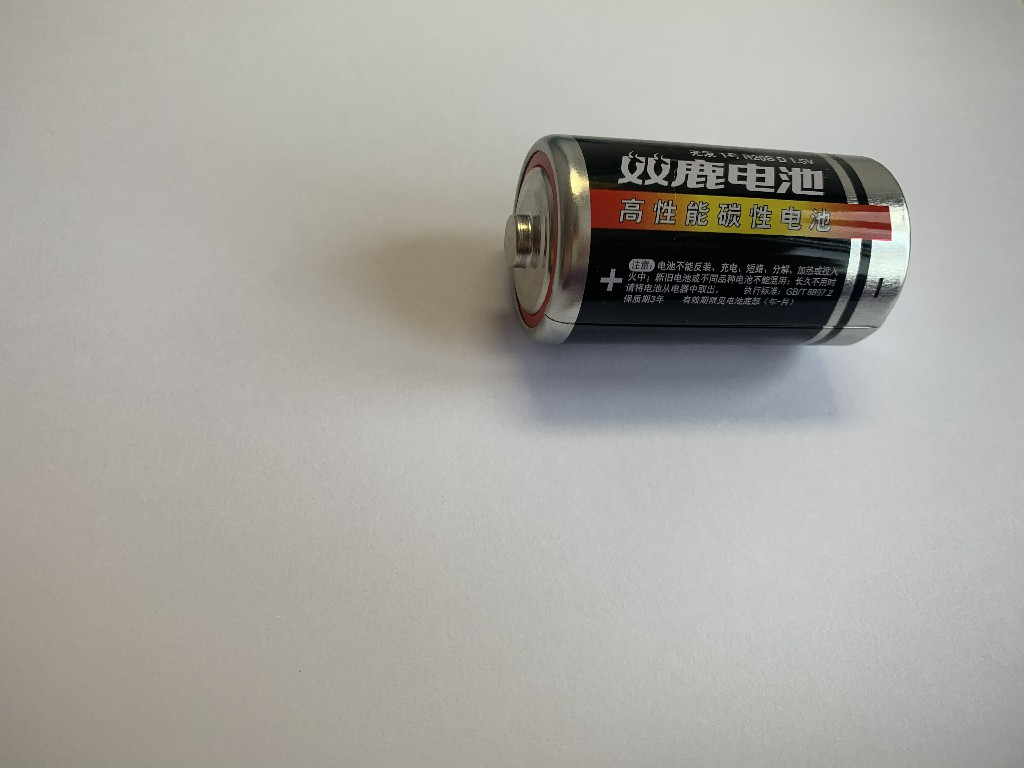charge: (502, 129, 922, 359)
